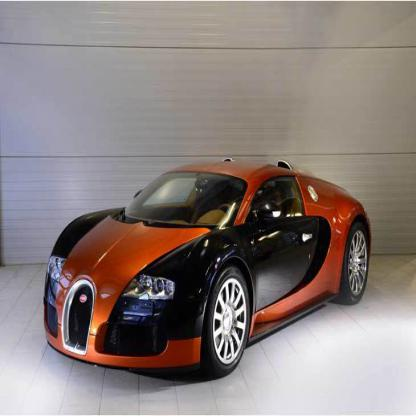Vehicle: (45, 159, 373, 373)
